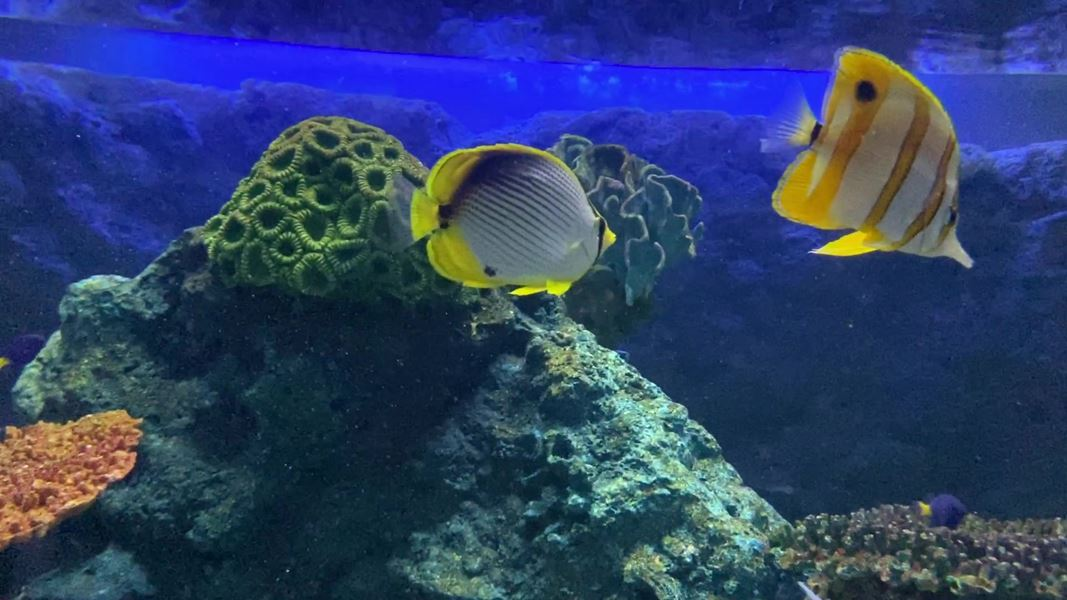Black-backed butterflyfish: (376, 133, 626, 308)
